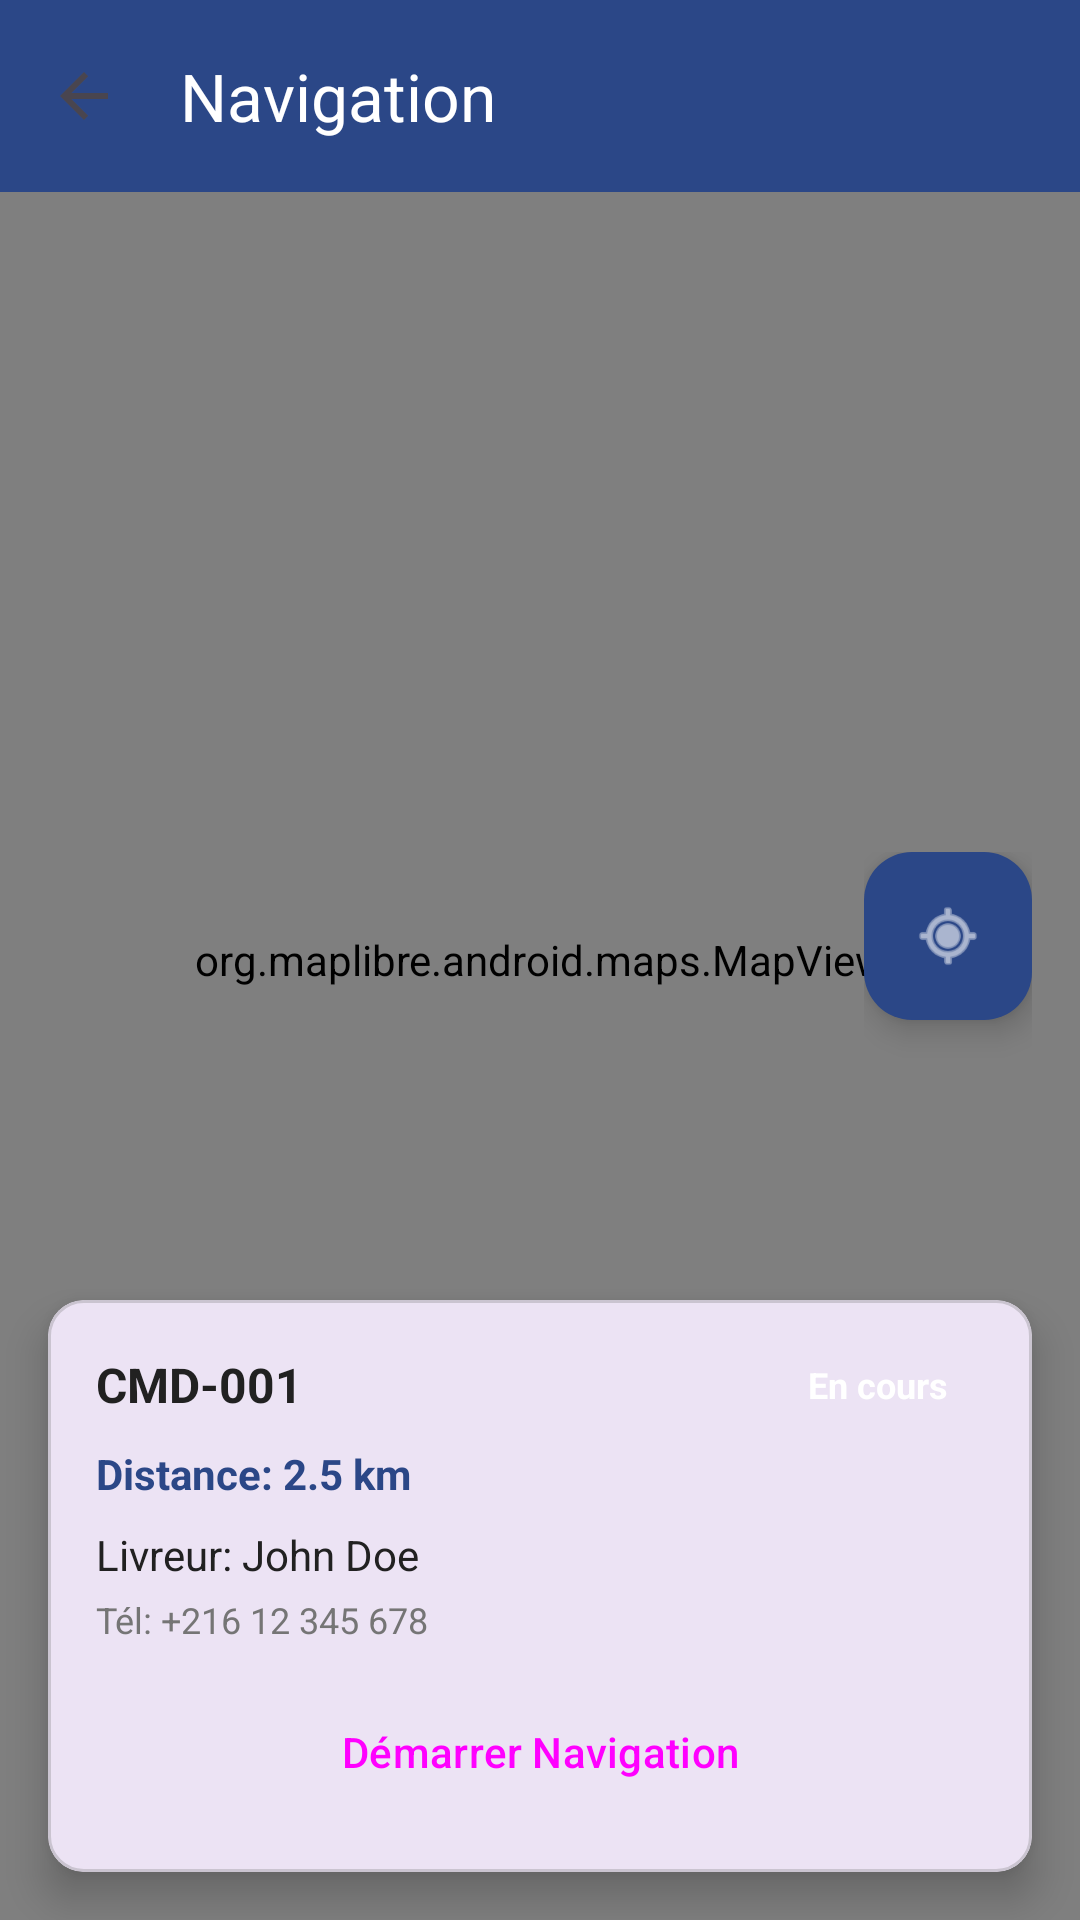

Point at icon controls on the screen. Image size 1080*1920, points as point (x, y).
mylocation: point (948, 936)
